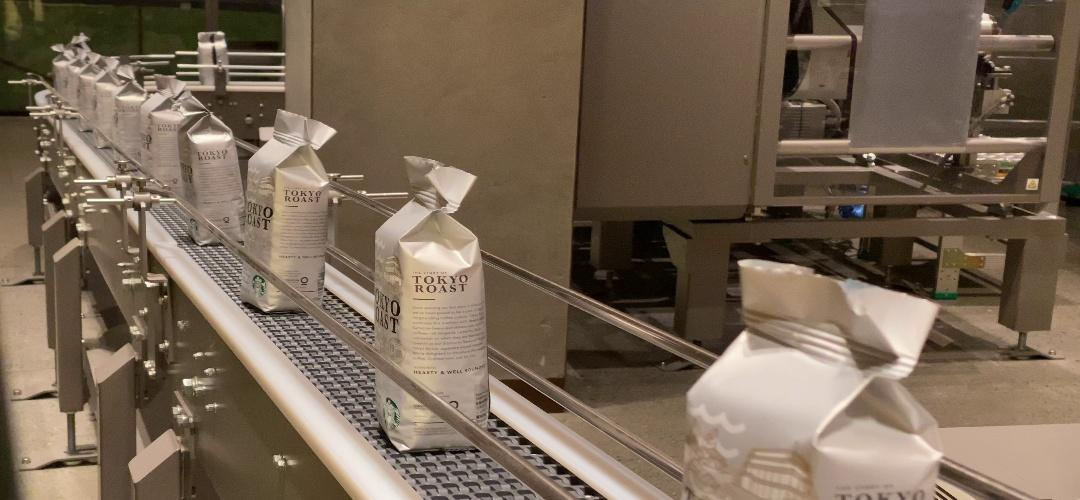conveyor: (686, 393, 939, 499), (375, 230, 487, 349), (247, 158, 331, 248), (178, 133, 244, 205)
